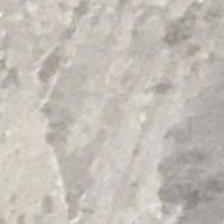Non_Crack: (25, 20, 221, 179)
